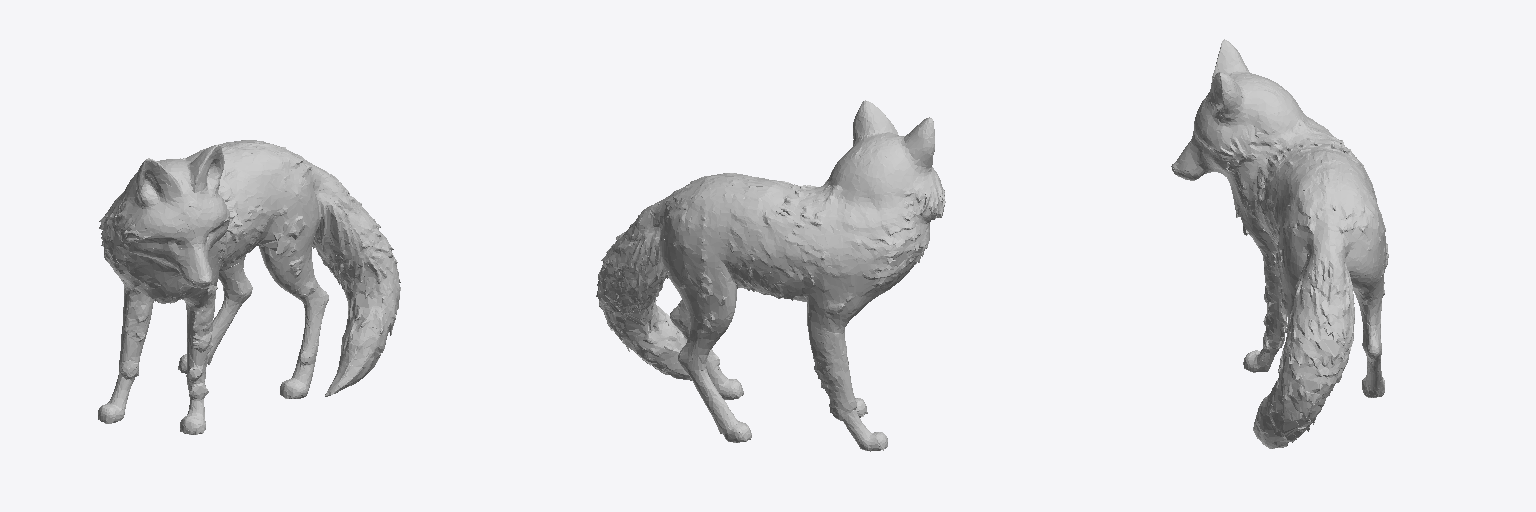
The model's file is test_quad_output2.obj.
3 renders of one model, left to right at view 1: azimuth 30°, elevation 25°; view 2: azimuth 150°, elevation 25°; view 3: azimuth 270°, elevation 25°, orthographic.
Bounding box in the file's own units: 1.98 × 1.85 × 1.21.